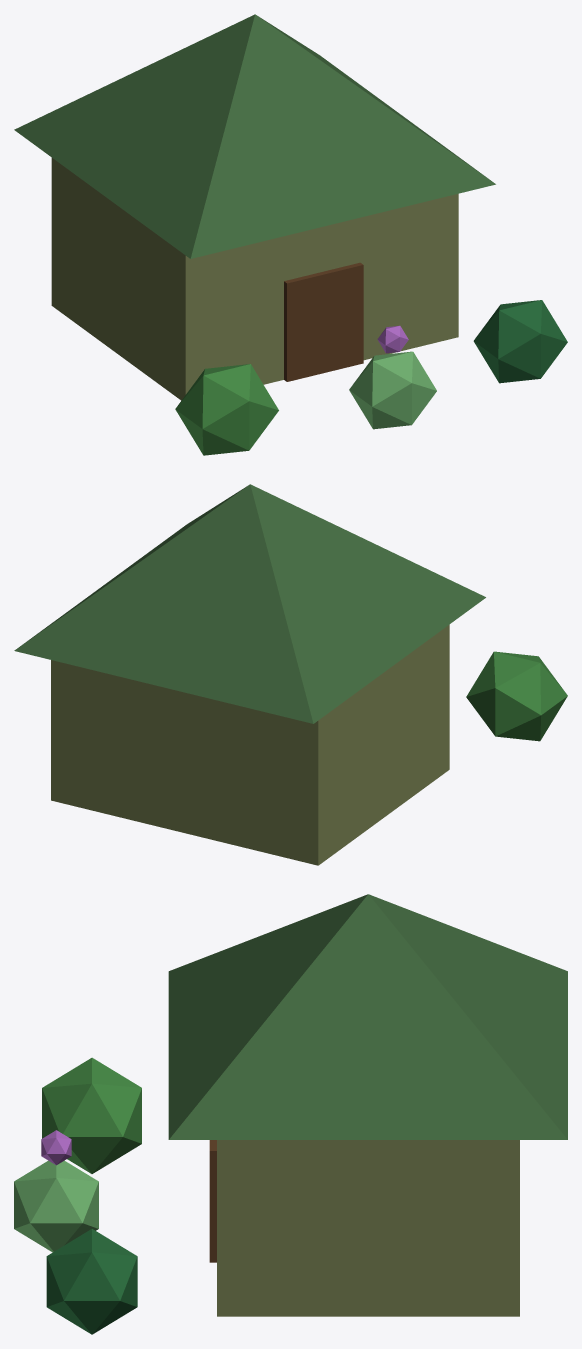
Rendered from herbalist.glb.
3 views of the same model, one above another, from view 1: azimuth 30°, elevation 25°; view 2: azimuth 150°, elevation 25°; view 3: azimuth 270°, elevation 25° (orthographic). The views are drawn at different scales.
Parts seen in each view (by area): view 1: herbalist; view 2: herbalist; view 3: herbalist.
Boxes of the visible parts, x1=… form: herbalist: x1=14, y1=14, x2=567, y2=455; herbalist: x1=14, y1=484, x2=567, y2=865; herbalist: x1=14, y1=894, x2=567, y2=1334.
Bounding box in the file's own units: 0.2686 × 0.2167 × 0.3108.
